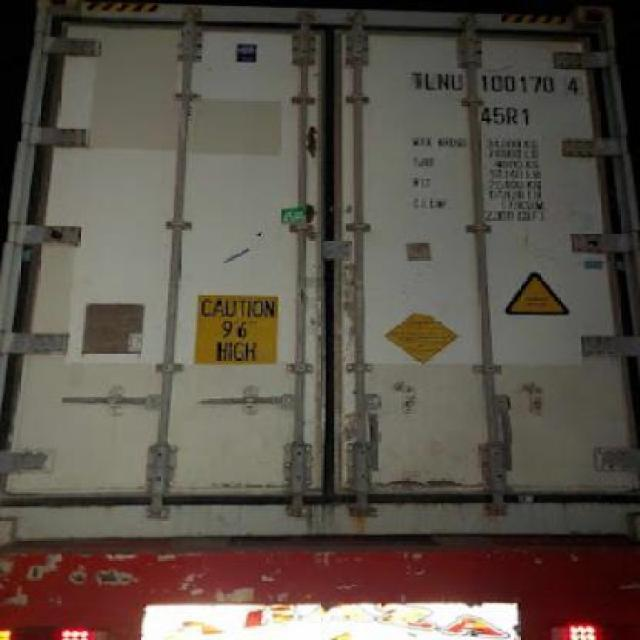ISO: (481, 104, 532, 127)
container_number: (418, 73, 578, 97)
